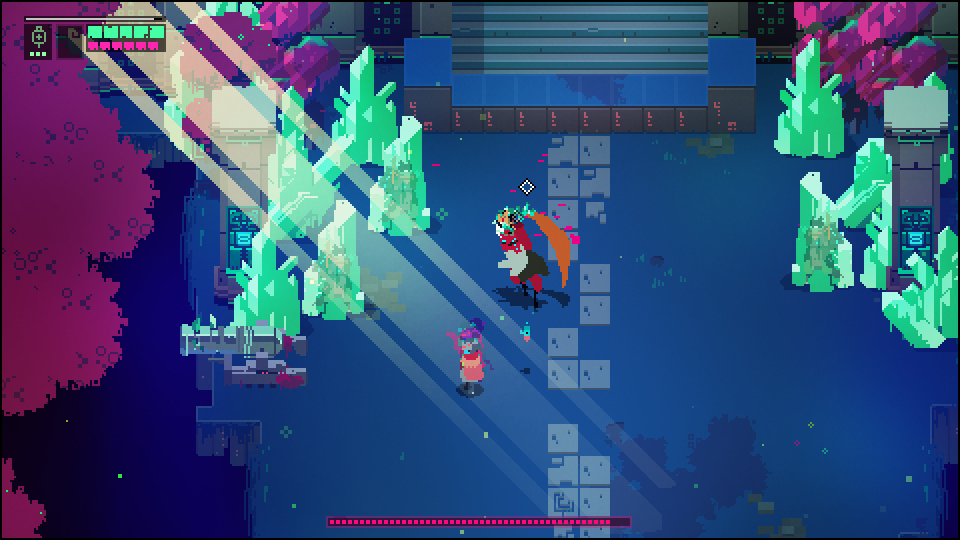hanged_man: (482, 196, 577, 306)
player: (457, 335, 484, 395)
